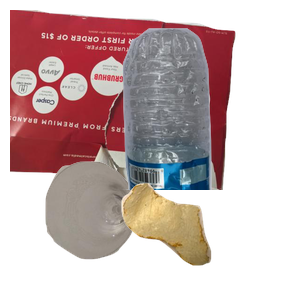glass: (43, 159, 187, 300)
paper: (10, 10, 238, 190)
plastic: (111, 26, 300, 206)
trash: (119, 181, 300, 300)
